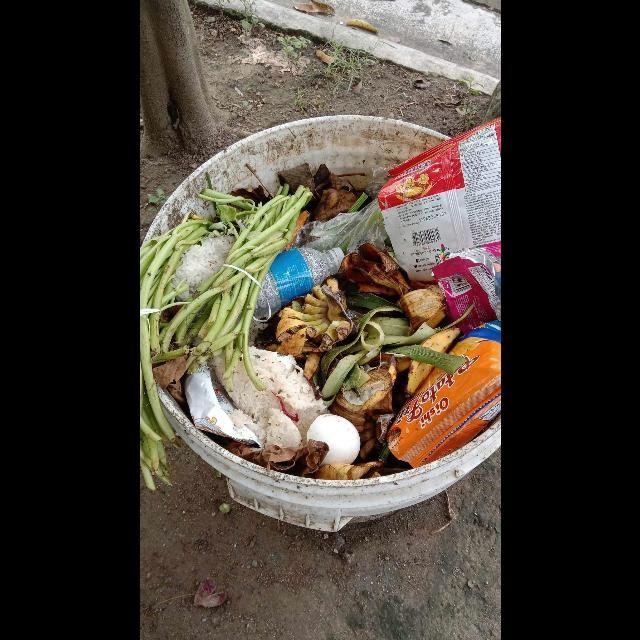food_wrapper: (377, 117, 501, 279), (386, 320, 501, 469), (184, 362, 259, 446), (430, 249, 498, 329)
left_over_food: (139, 184, 312, 493), (222, 347, 330, 449)
plastic_bag: (297, 192, 393, 255)
plastic_bottle: (252, 248, 344, 323)
